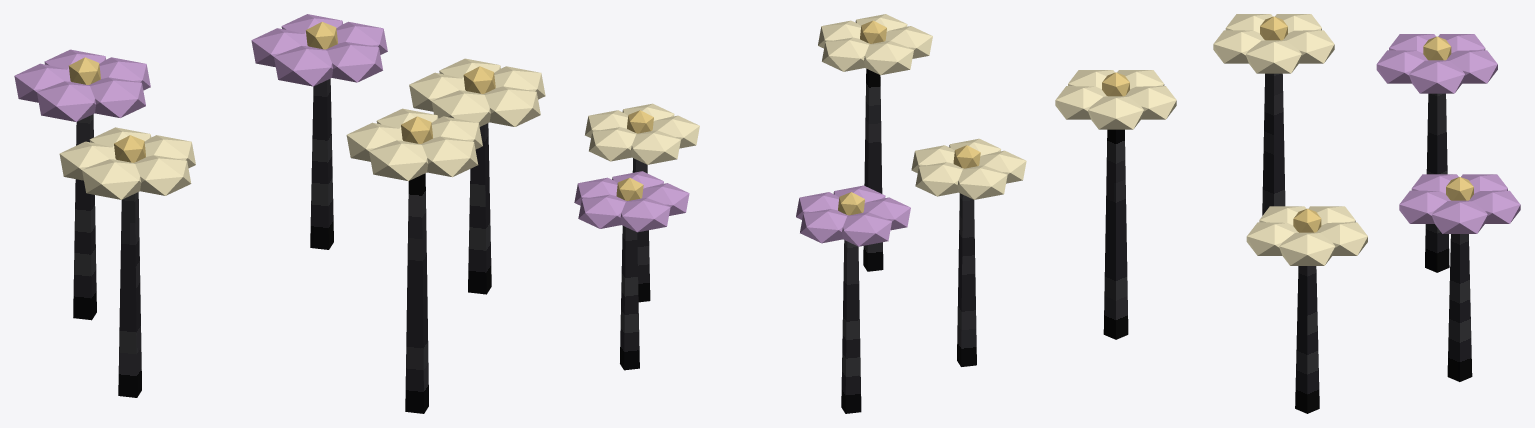
The model's file is enfeite_flores.fbx.
The picture shows the model from 3 angles, left to right: view 1: azimuth 30°, elevation 25°; view 2: azimuth 150°, elevation 25°; view 3: azimuth 270°, elevation 25°; orthographic projection. The views are drawn at different scales.
Parts seen in each view (by area): view 1: vulcao_enfeite_flores; view 2: vulcao_enfeite_flores; view 3: vulcao_enfeite_flores.
Boxes of the visible parts, bbox=[...] form: vulcao_enfeite_flores: bbox=[14, 14, 545, 413]; vulcao_enfeite_flores: bbox=[574, 14, 1026, 413]; vulcao_enfeite_flores: bbox=[1055, 14, 1520, 413].
Bounding box in the file's own units: 36.6 × 21.1 × 33.9.
4 materials, 1 textured.
